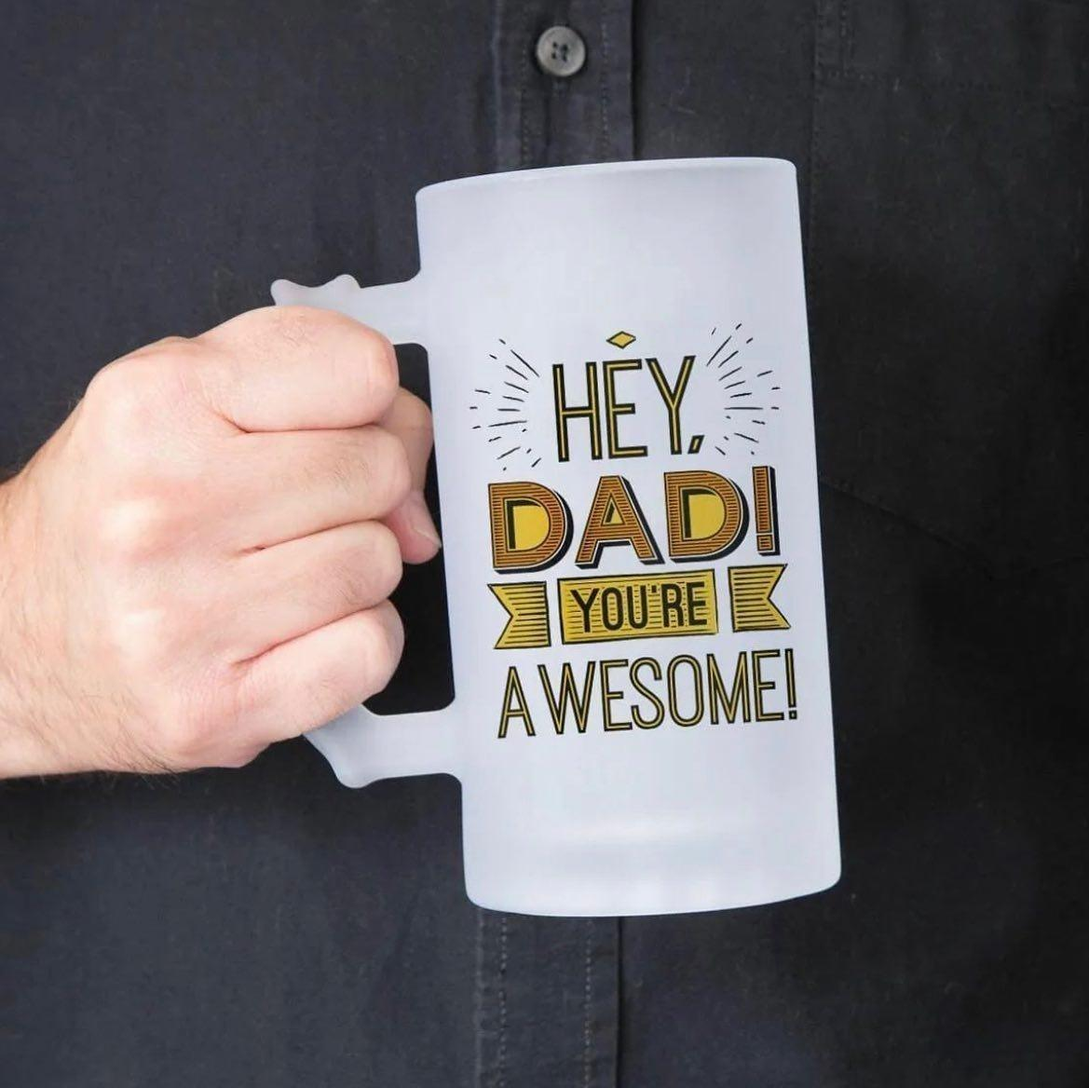glass-mug: (241, 143, 843, 924)
